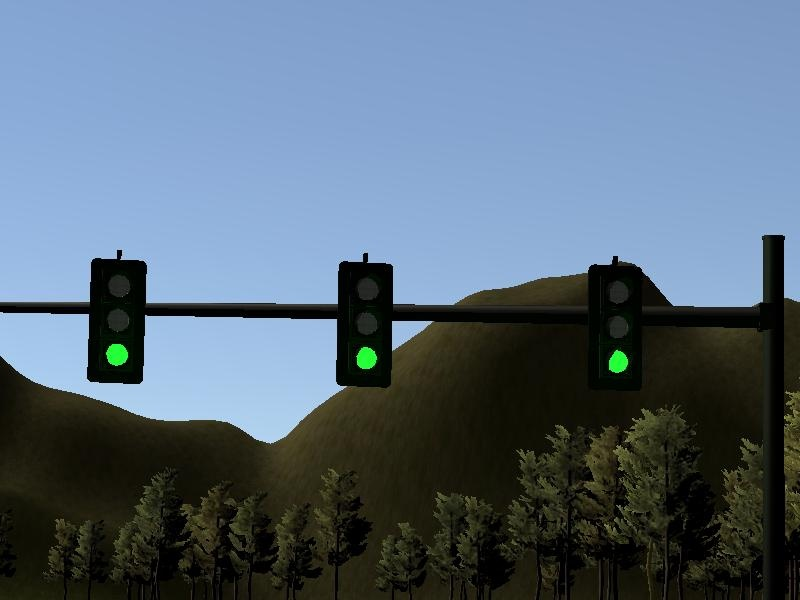green: (80, 242, 155, 390), (579, 246, 650, 401), (332, 252, 397, 402)
